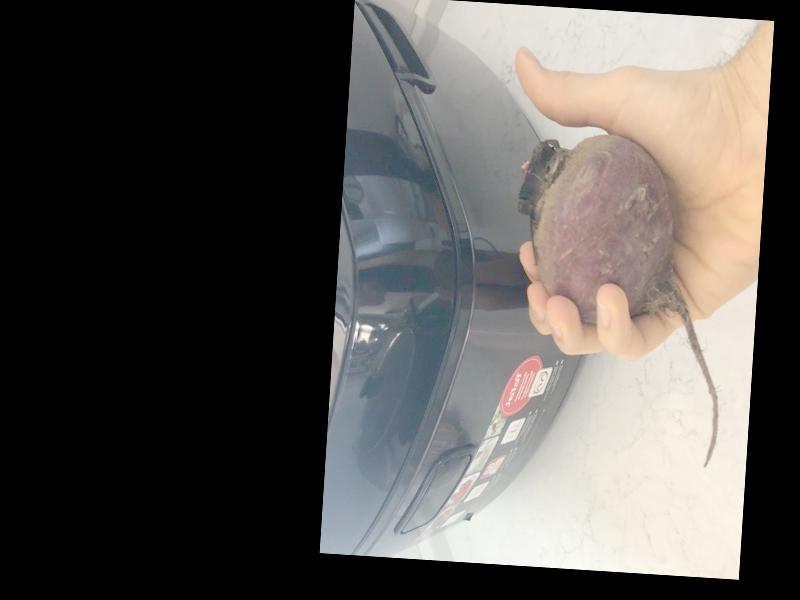Beet: (502, 129, 736, 469)
